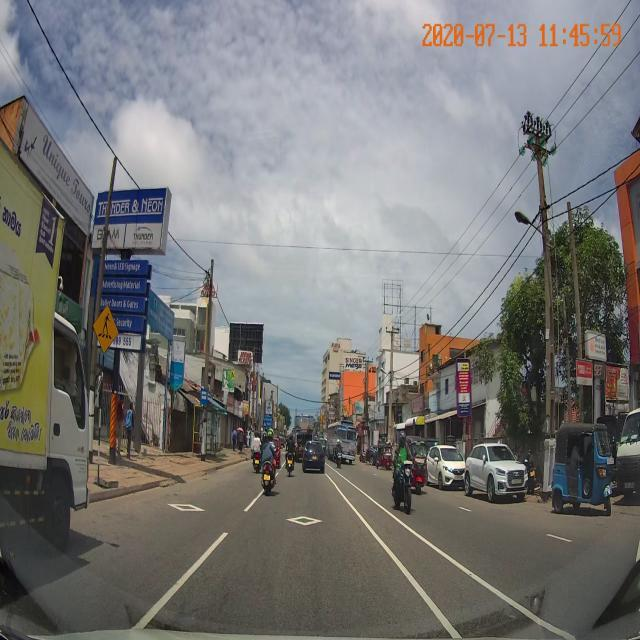diamond: (232, 513, 375, 530)
